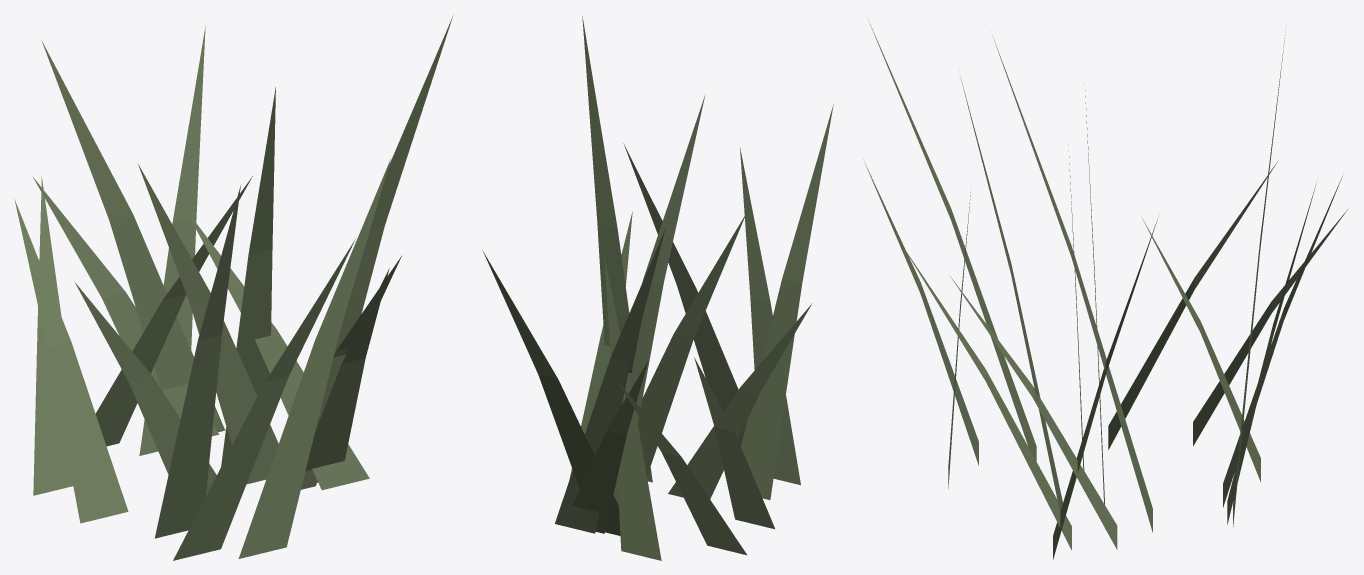
File: grass_tuft.glb
3 renders of one model, left to right at view 1: azimuth 30°, elevation 25°; view 2: azimuth 150°, elevation 25°; view 3: azimuth 270°, elevation 25°, orthographic. The views are drawn at different scales.
Parts seen in each view (by area): view 1: Body.012; view 2: Body.012; view 3: Body.012.
Part boxes in pixels (bbox=[...]): Body.012: bbox=[14, 15, 453, 560]; Body.012: bbox=[482, 16, 833, 560]; Body.012: bbox=[863, 20, 1348, 559].
Bounding box in the file's own units: 0.231 × 0.3293 × 0.2829.
